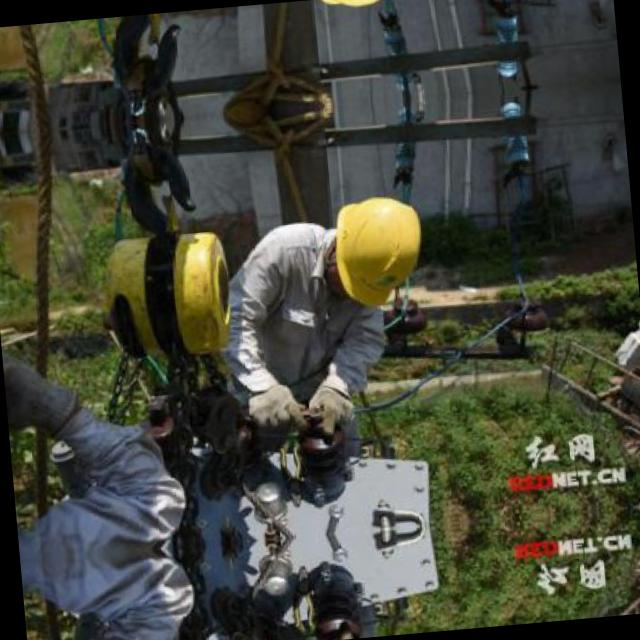helmet: (319, 187, 432, 310)
